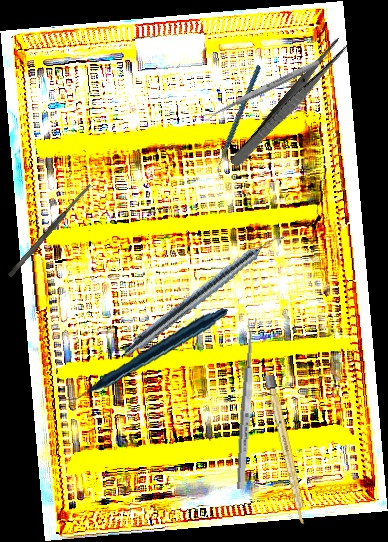Chopper: (184, 64, 295, 180)
Dressing Forceps: (228, 36, 350, 172)
Handpiece: (121, 226, 287, 362), (61, 292, 228, 416)
Scalpel Handle: (264, 374, 309, 526)
Spatula Surgical: (6, 182, 94, 279)
Surgical Spoon: (200, 58, 322, 123), (235, 317, 258, 490)
